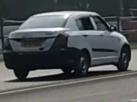Car: (12, 9, 133, 91), (2, 8, 133, 77)
